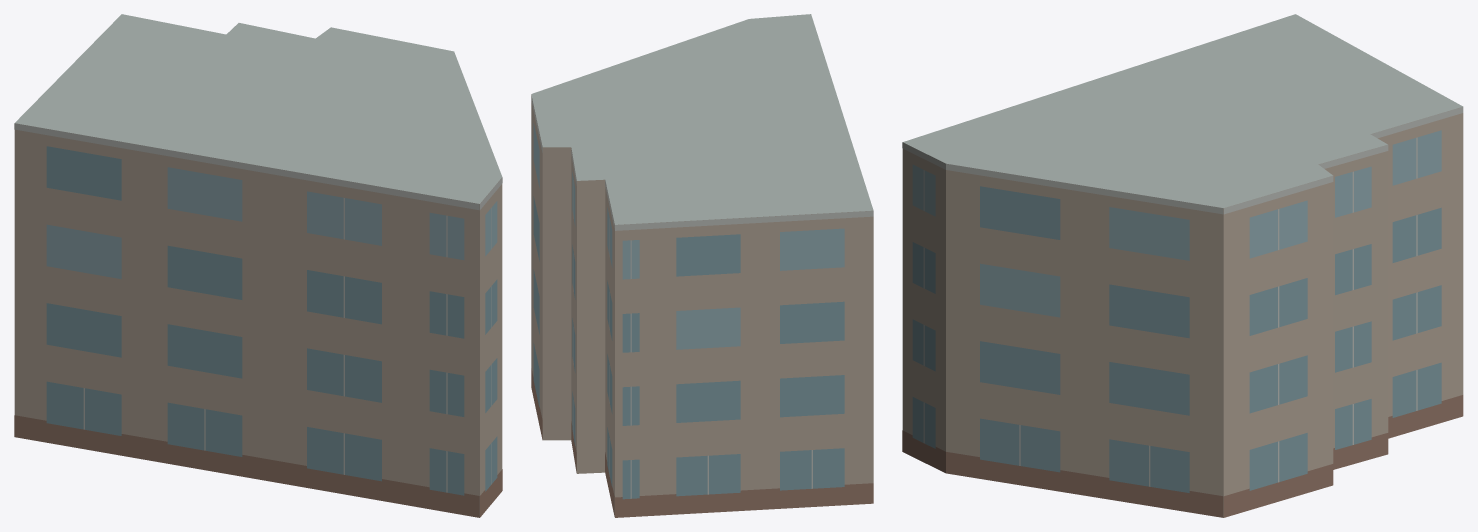
Rendered from survey-upis-32939545.glb.
3 views of the same model, side by side, from view 1: azimuth 30°, elevation 25°; view 2: azimuth 150°, elevation 25°; view 3: azimuth 270°, elevation 25° (orthographic). The views are drawn at different scales.
Parts seen in each view (by area): view 1: survey-upis-32939545.tmp; view 2: survey-upis-32939545.tmp; view 3: survey-upis-32939545.tmp.
Boxes of the visible parts, bbox=[...] form: survey-upis-32939545.tmp: bbox=[14, 14, 502, 517]; survey-upis-32939545.tmp: bbox=[531, 14, 873, 517]; survey-upis-32939545.tmp: bbox=[902, 14, 1463, 517].
Size of the model in its own units: 16.14 by 12 by 19.7.
